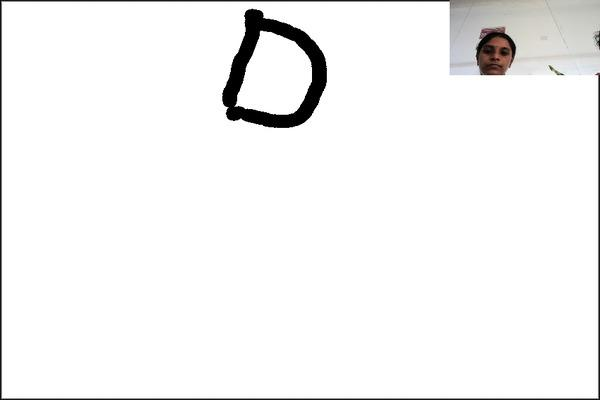D: (217, 5, 332, 131)
